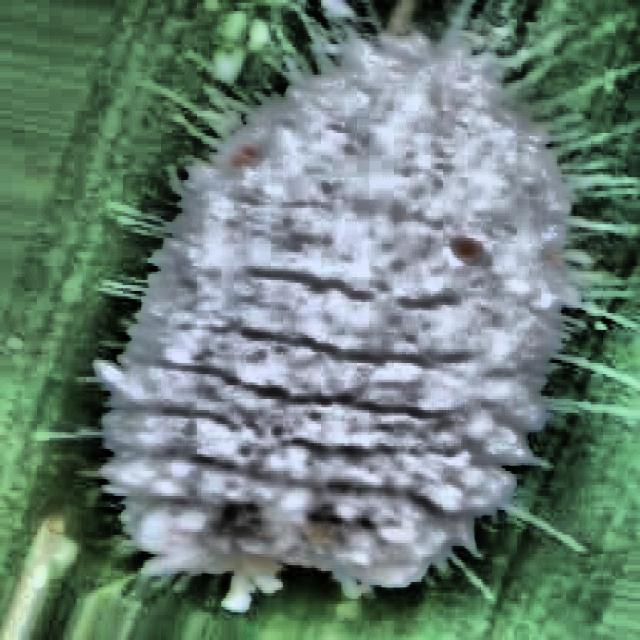Mealy-bug: (35, 8, 605, 636)
